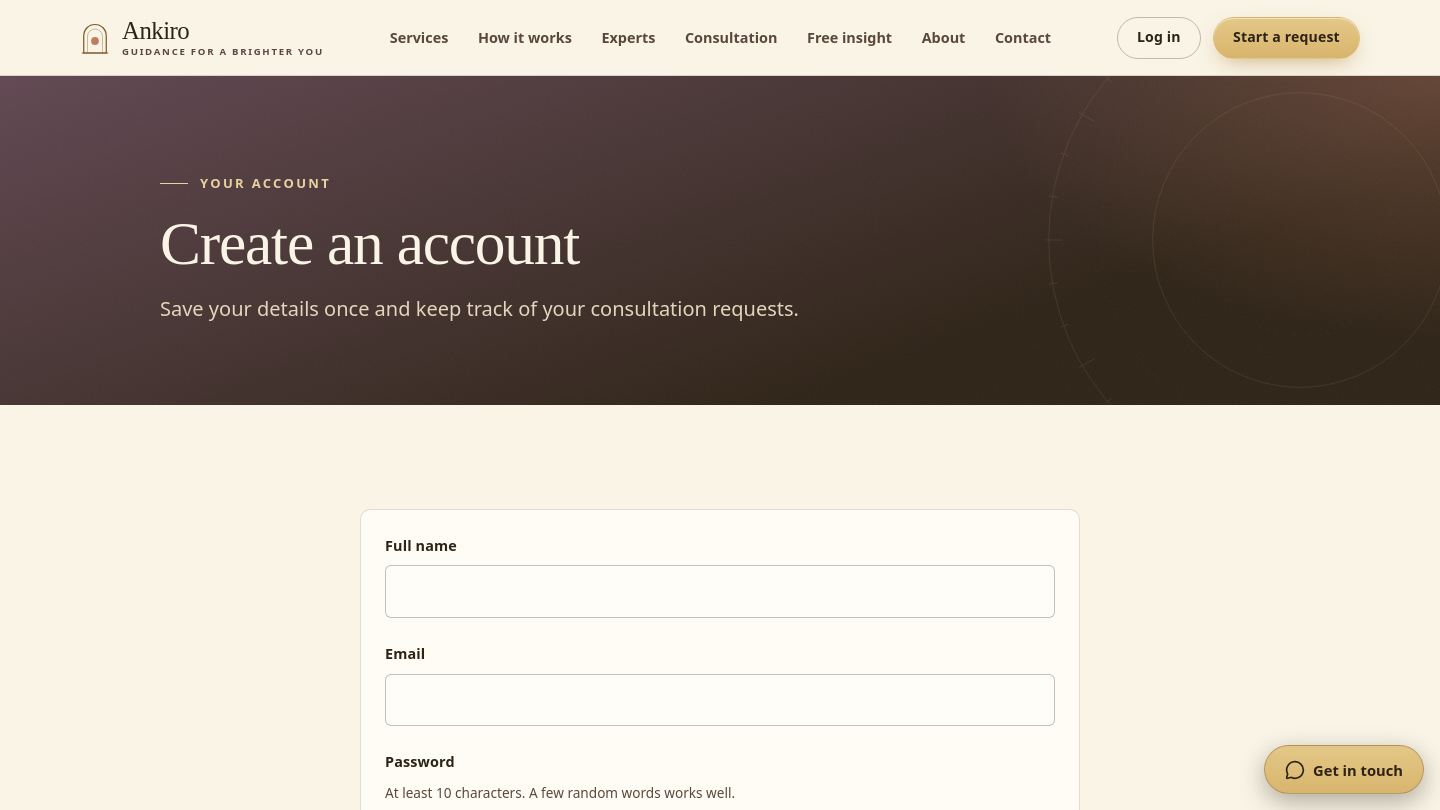
Test case: sign-up › rejects mismatched passwords
This screenshot has width=1440, height=810.
Type "  Asha Rao " into the field labelled "Full name" at (720, 592), box [385,565,1055,618]
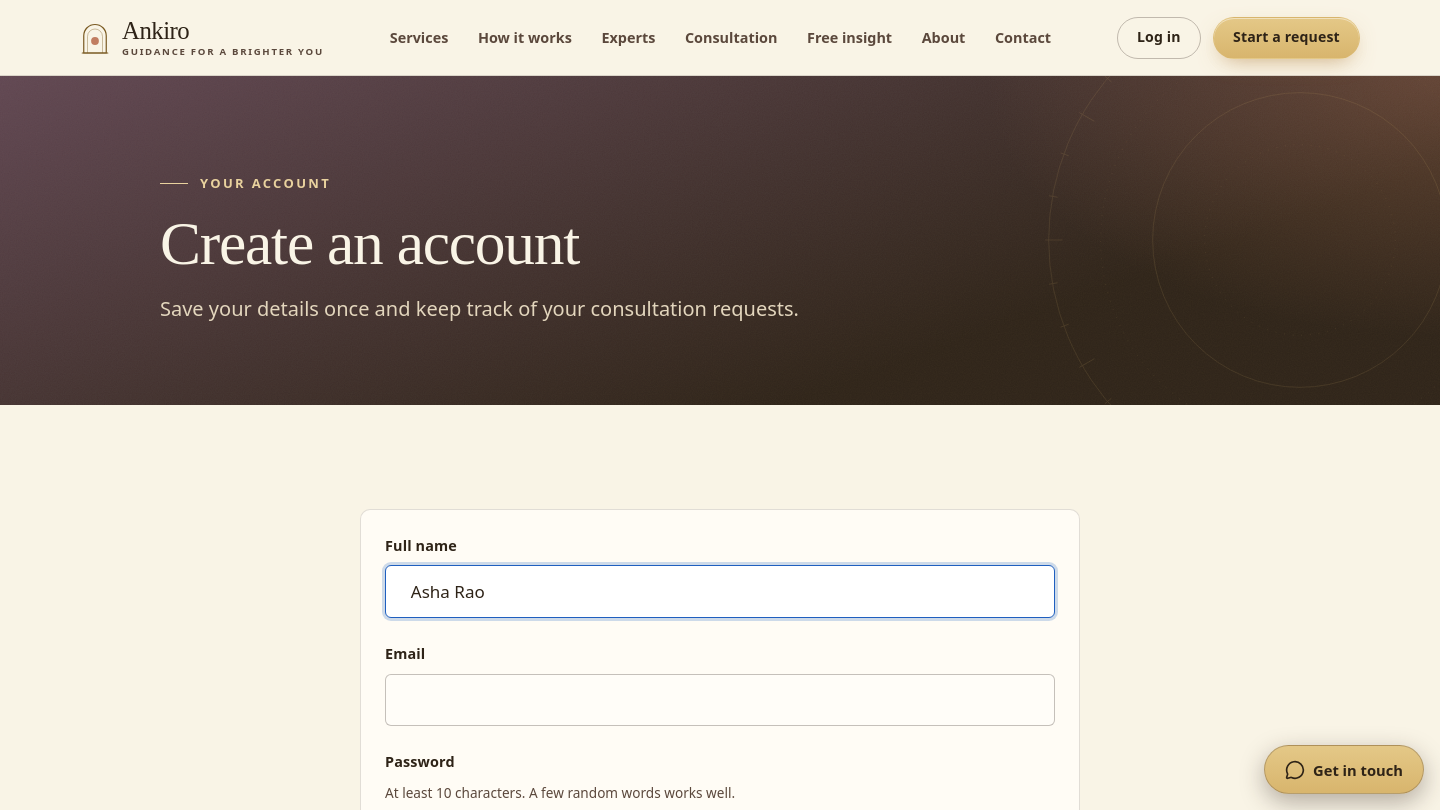
Type "Asha@Example.com " into the field labelled "Email" at (720, 700), box [385,674,1055,726]
(page scrolled)
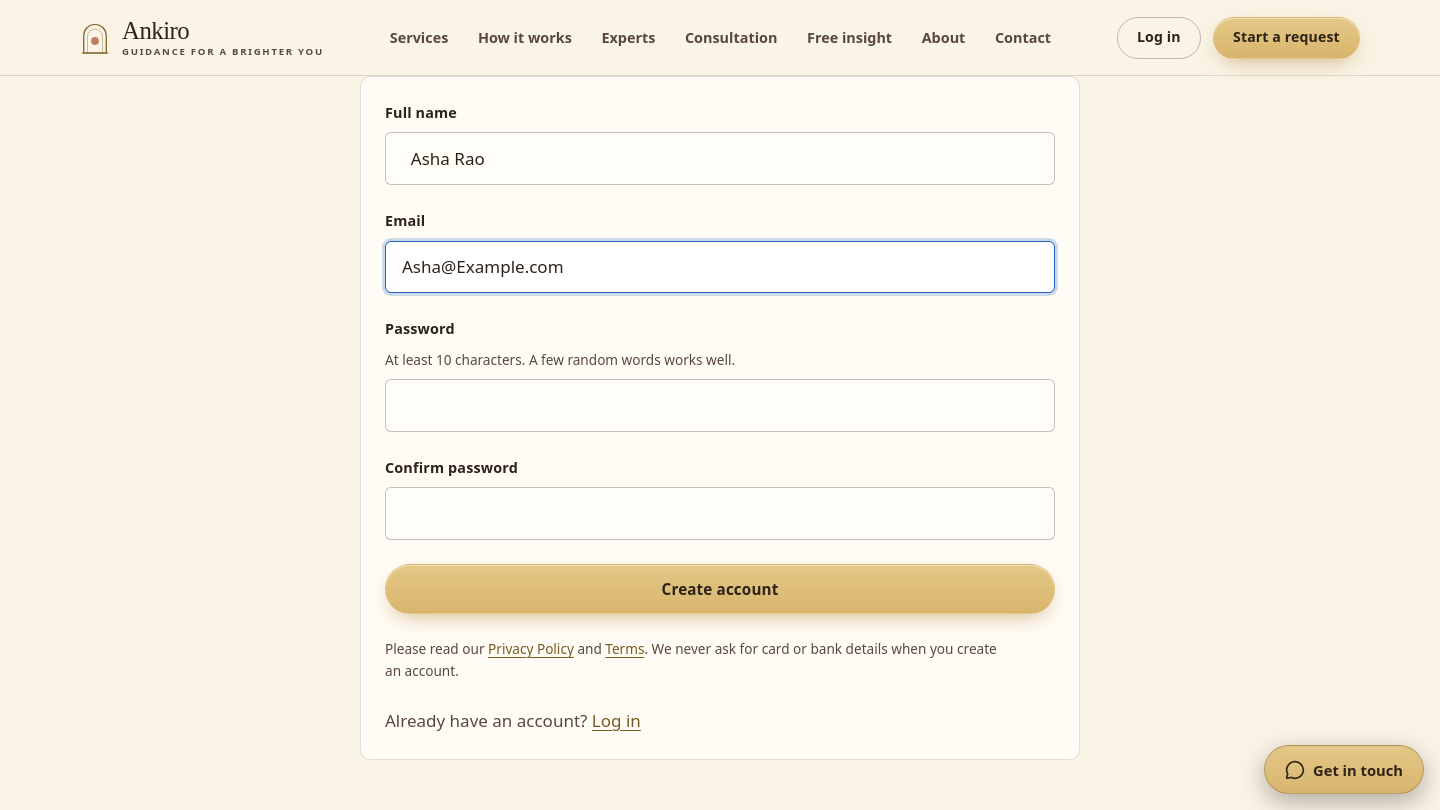
Type "blue-river-lantern" into the password field labelled "Password" at (720, 405), box [385,379,1055,432]
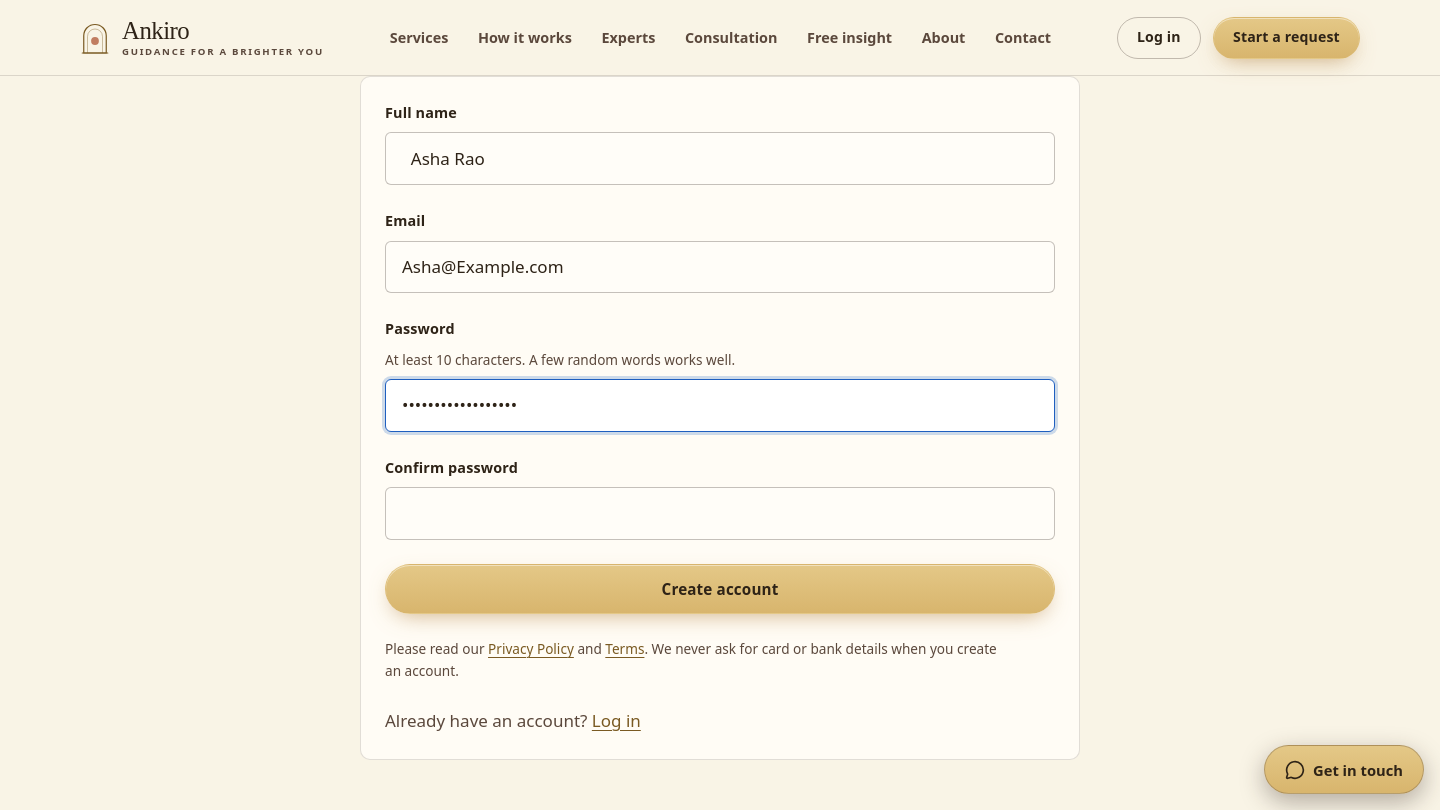
Type "a-different-password" into the password field labelled "Confirm password" at (720, 514), box [385,487,1055,540]
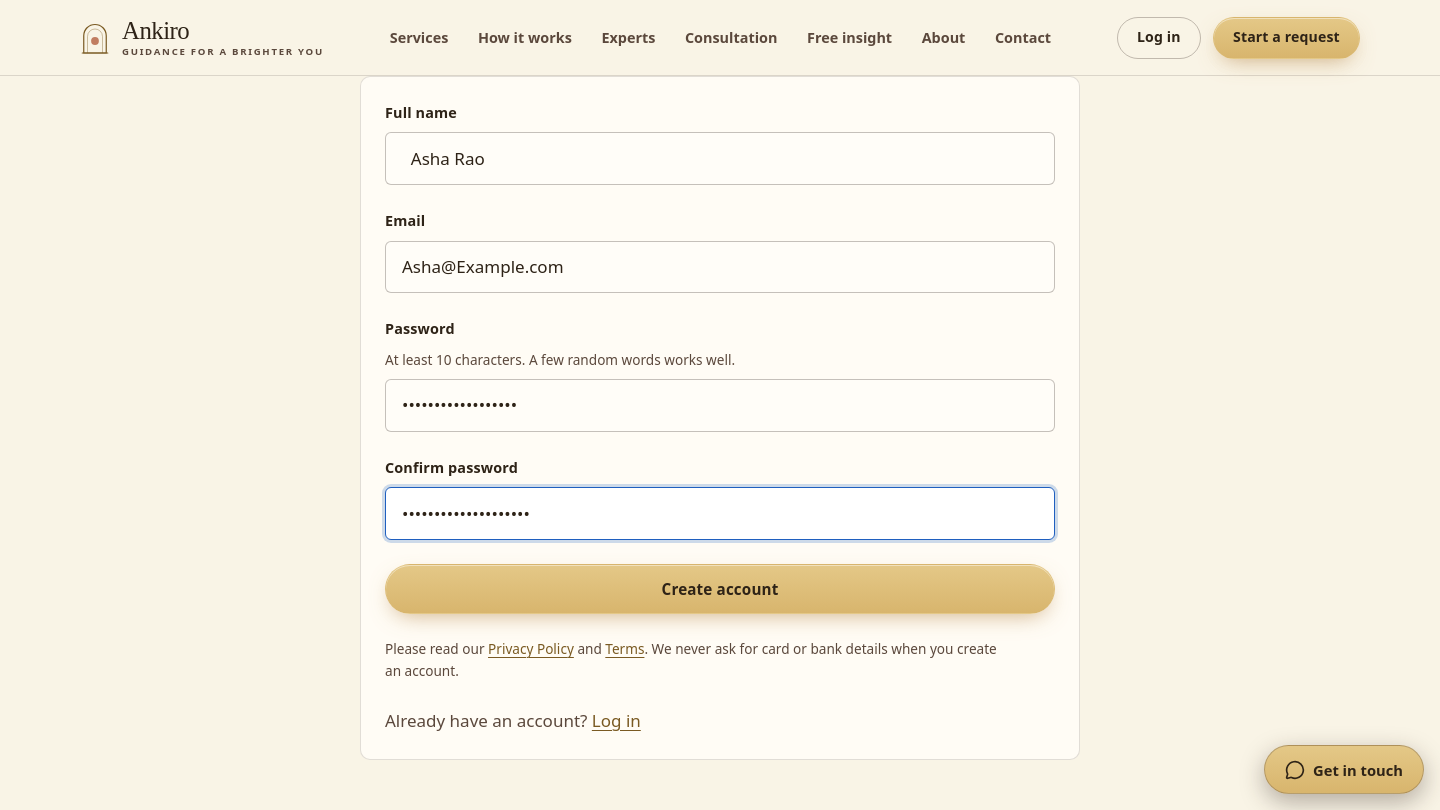
Click the button "Create account" at (720, 589), box [385,564,1055,614]
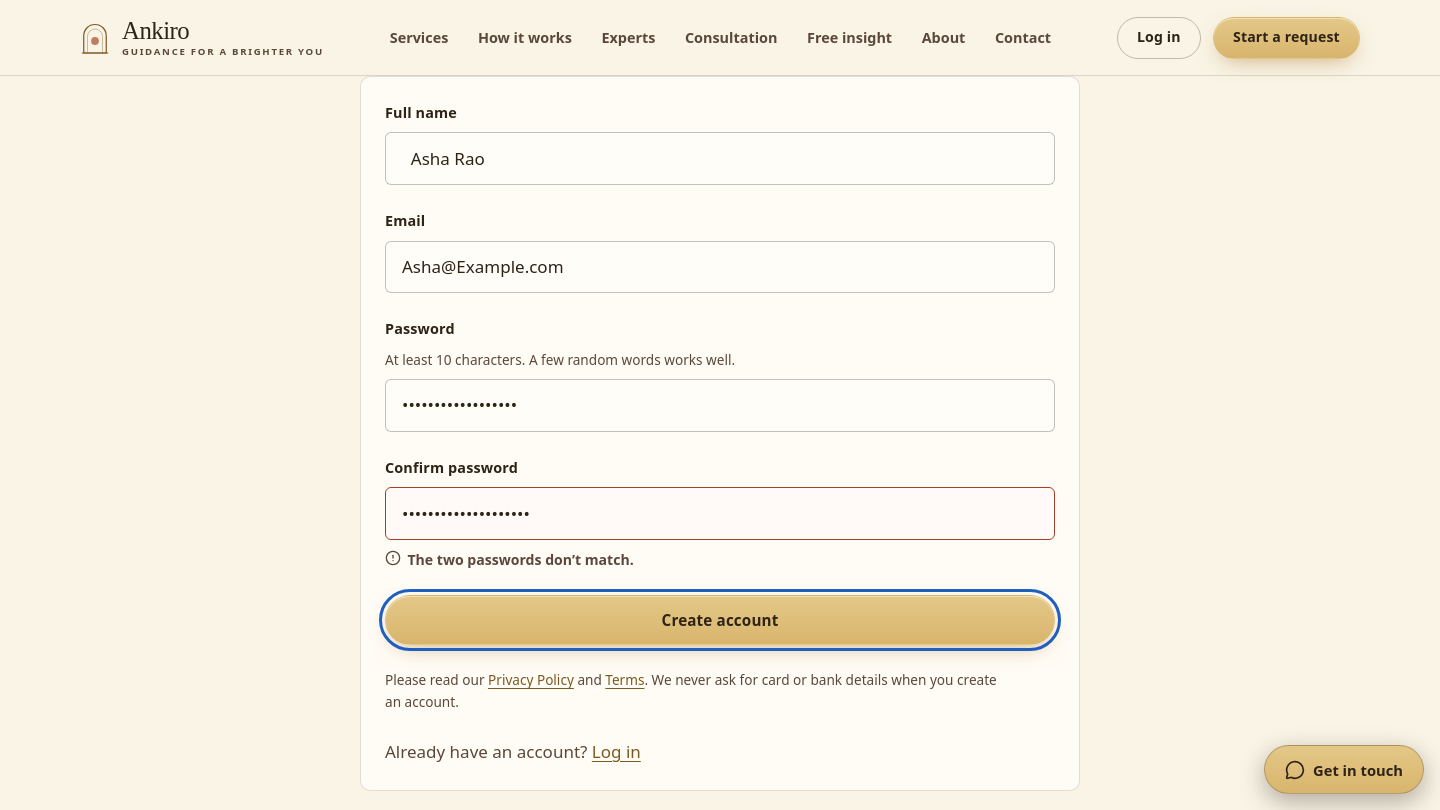
Now the text "The two passwords don’t match." is shown, box [407,548,634,571]
